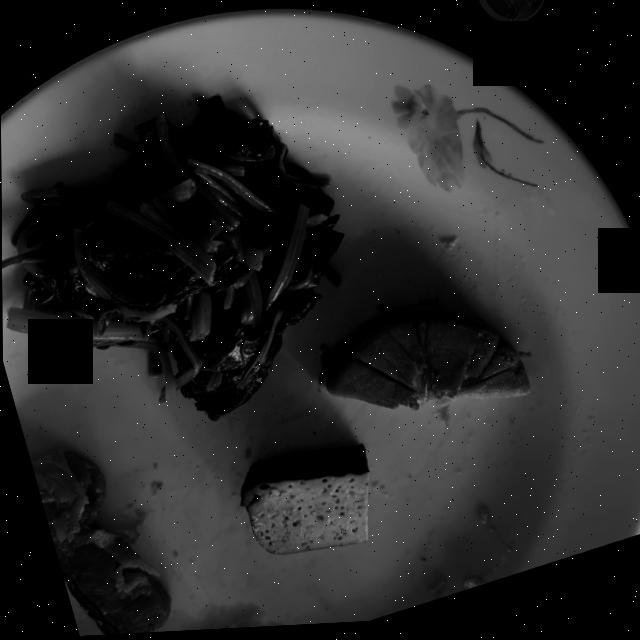Spam: (317, 305, 529, 413)
coin: (476, 0, 546, 31)
firm tofu: (239, 447, 368, 556)
mustard greens: (2, 97, 340, 420)
pumpkin: (29, 446, 169, 636)
